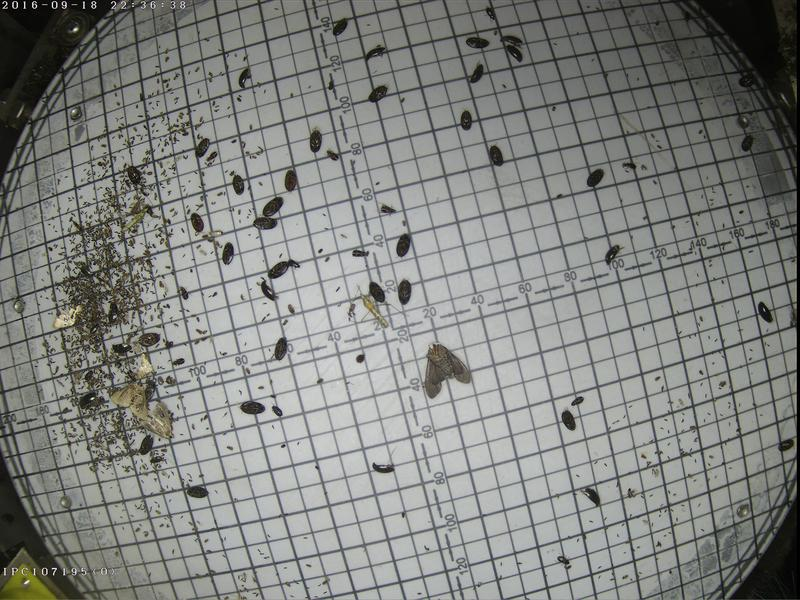Rice Leaf Roller: (133, 352, 152, 377)
